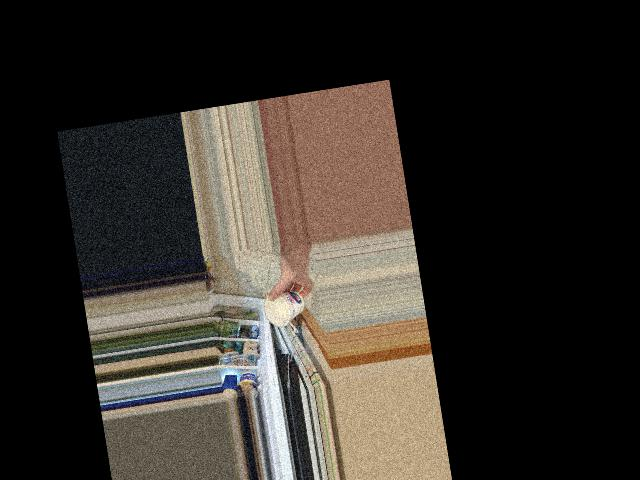cotage: (265, 287, 307, 326)
